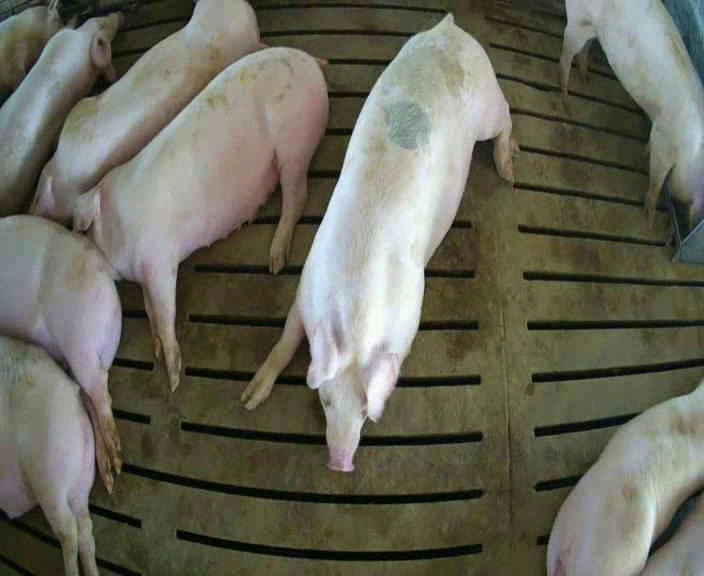pig: (242, 14, 512, 469), (76, 48, 327, 390), (30, 2, 264, 224), (560, 2, 703, 221), (547, 380, 703, 574), (0, 13, 120, 215), (0, 2, 62, 103)
